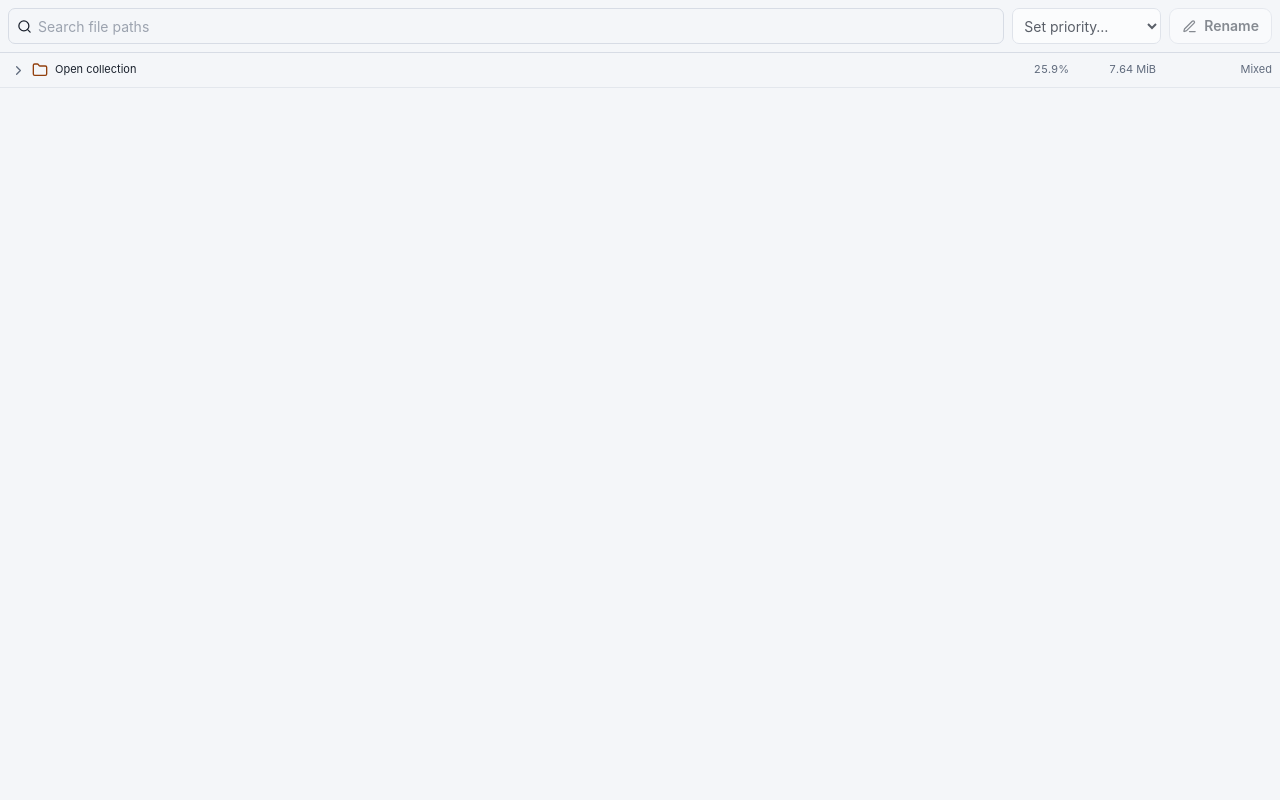
Test: torrent details › uses the folder endpoint for a single selected folder rename
The image size is (1280, 800).
Click the list item "Open collection 25.9% 7.64 MiB Mixed": (640, 70) [0,53,1279,88]
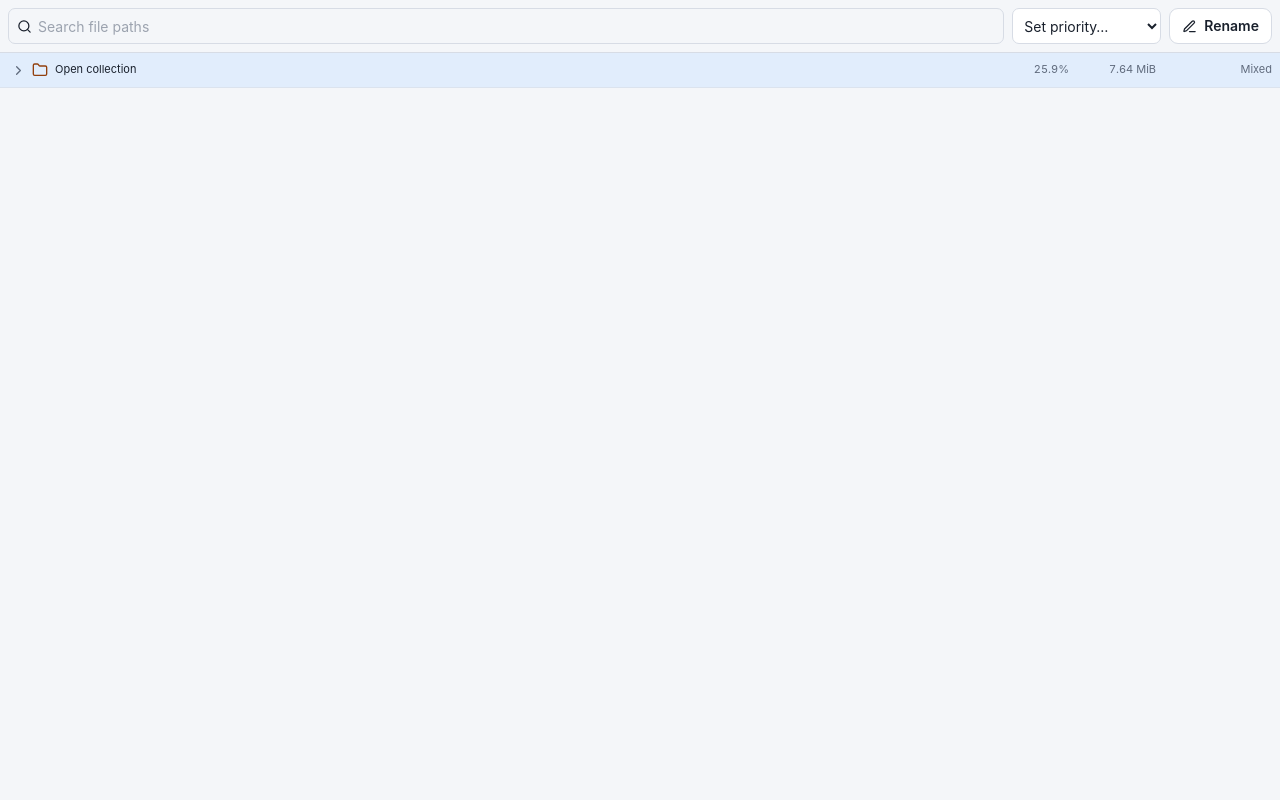
Click the button with aria-label "Rename selected file or folder": (1221, 26) [1169,8,1272,44]
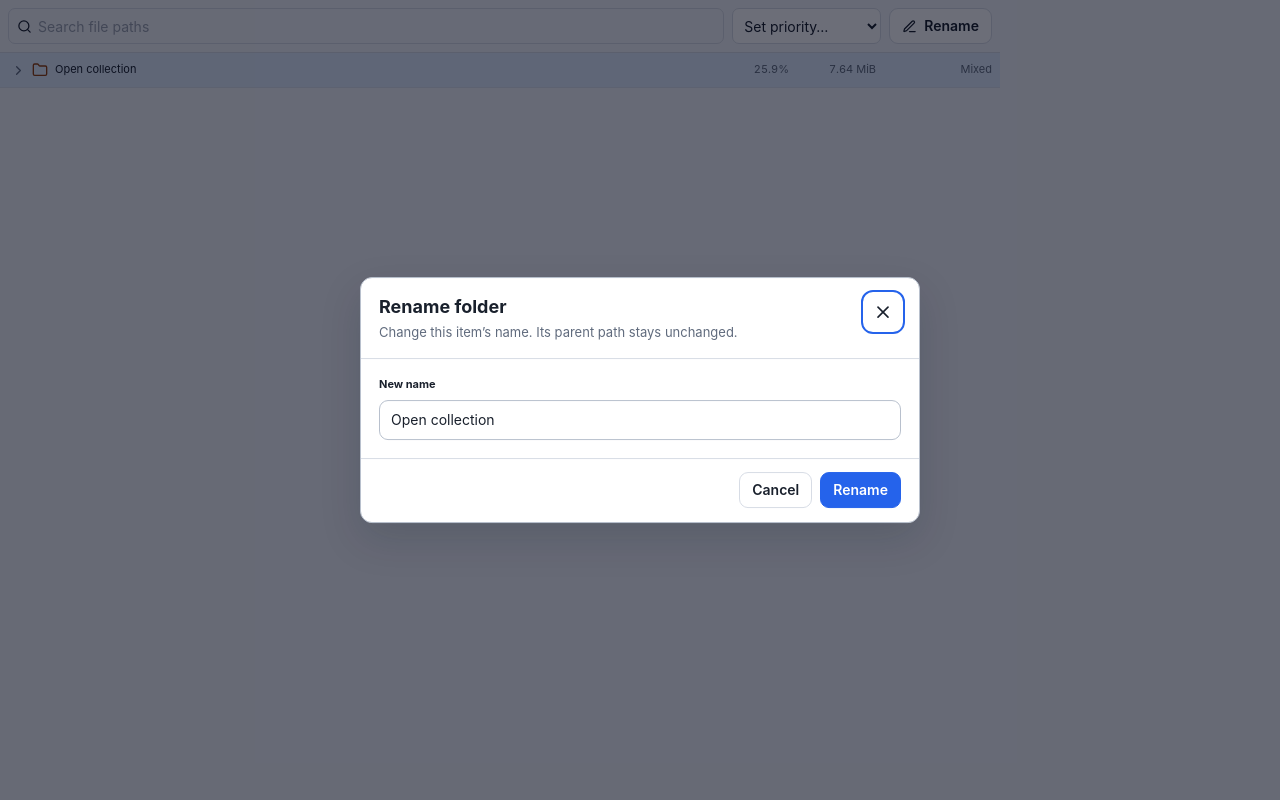
Replace the text in the field with id "file-tree-rename-name" with "Renamed collection": (640, 420) [379,400,901,440]
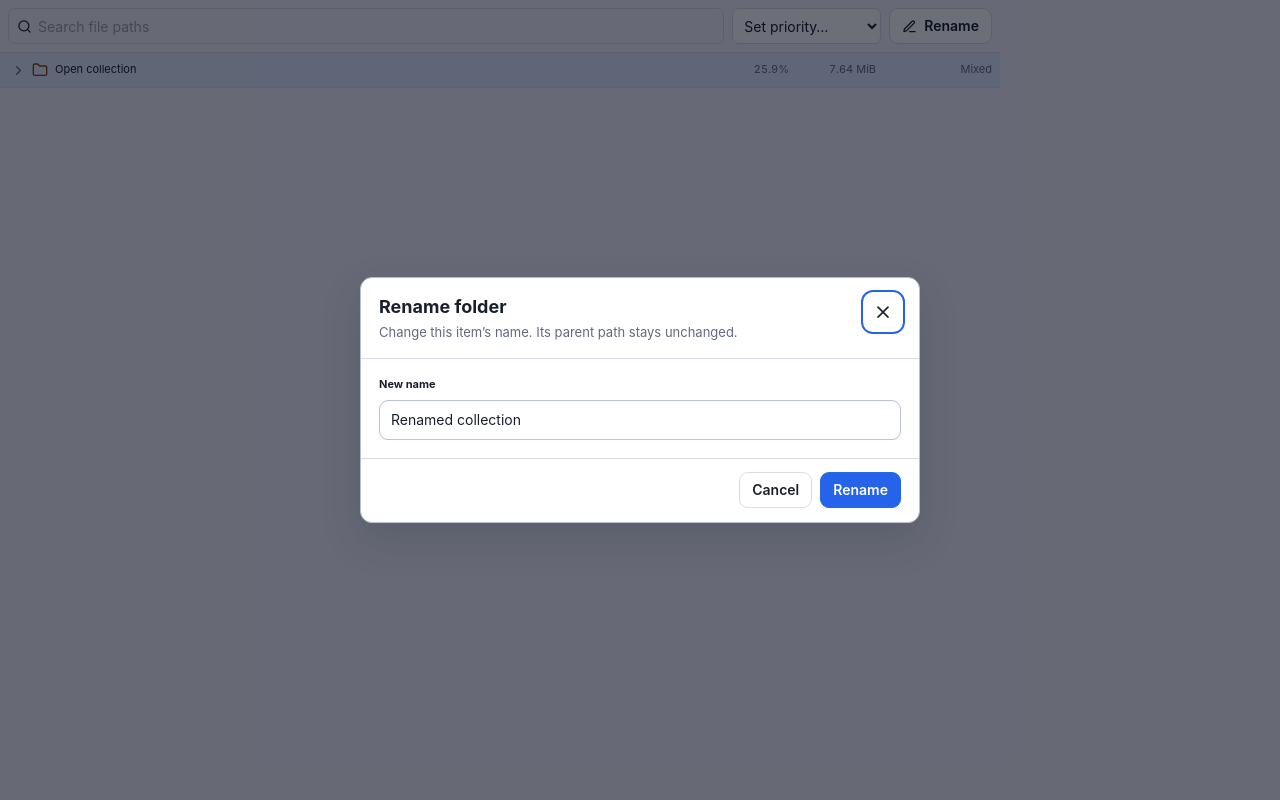
Submit the form with id "file-tree-rename-form", box [379,377,901,440]
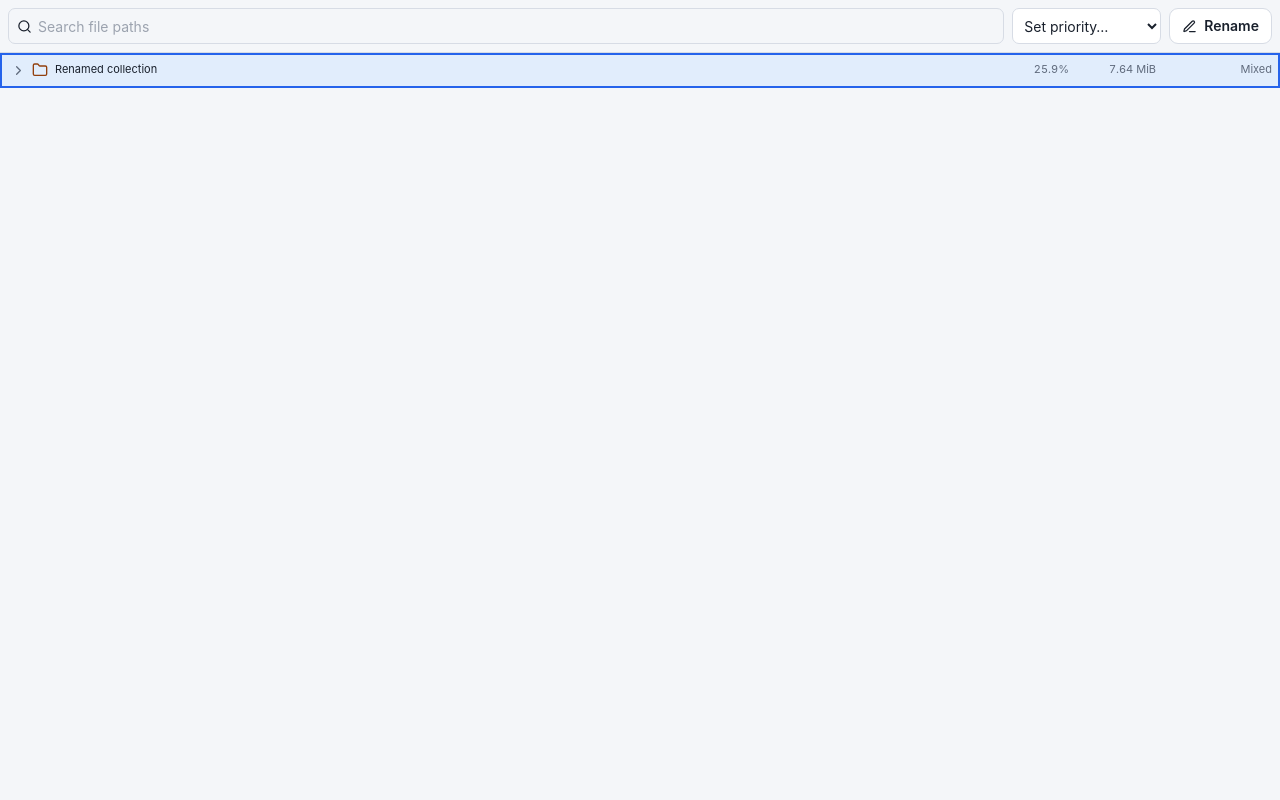
Expected: the text "Renamed collection" is shown, [55,62,157,76]
